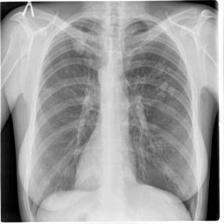tuberculosis: (22, 6, 202, 224)
